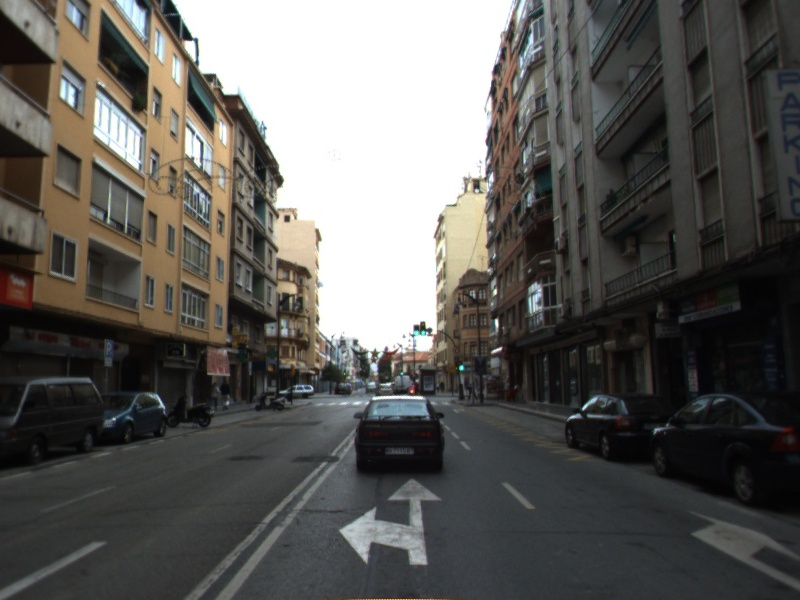RIGHT: (683, 508, 800, 592)
STRAIGHT_LEFT: (337, 476, 444, 566)
